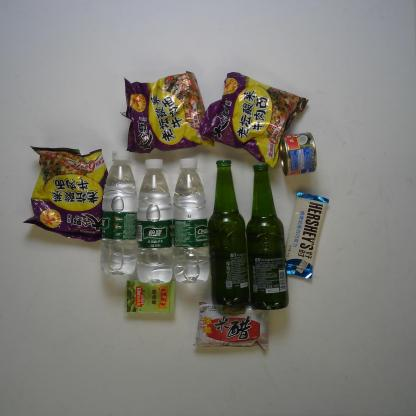Alcohol: (246, 163, 289, 311), (208, 159, 250, 306)
Candy: (126, 280, 175, 314)
Canned Food: (280, 132, 317, 177)
Chocolate: (285, 190, 330, 280)
Drink: (100, 150, 137, 276), (173, 158, 210, 284), (137, 159, 173, 284)
Instant Noodles: (197, 71, 309, 169), (22, 145, 109, 243), (119, 70, 214, 154)
Seasoner: (193, 301, 269, 352)
